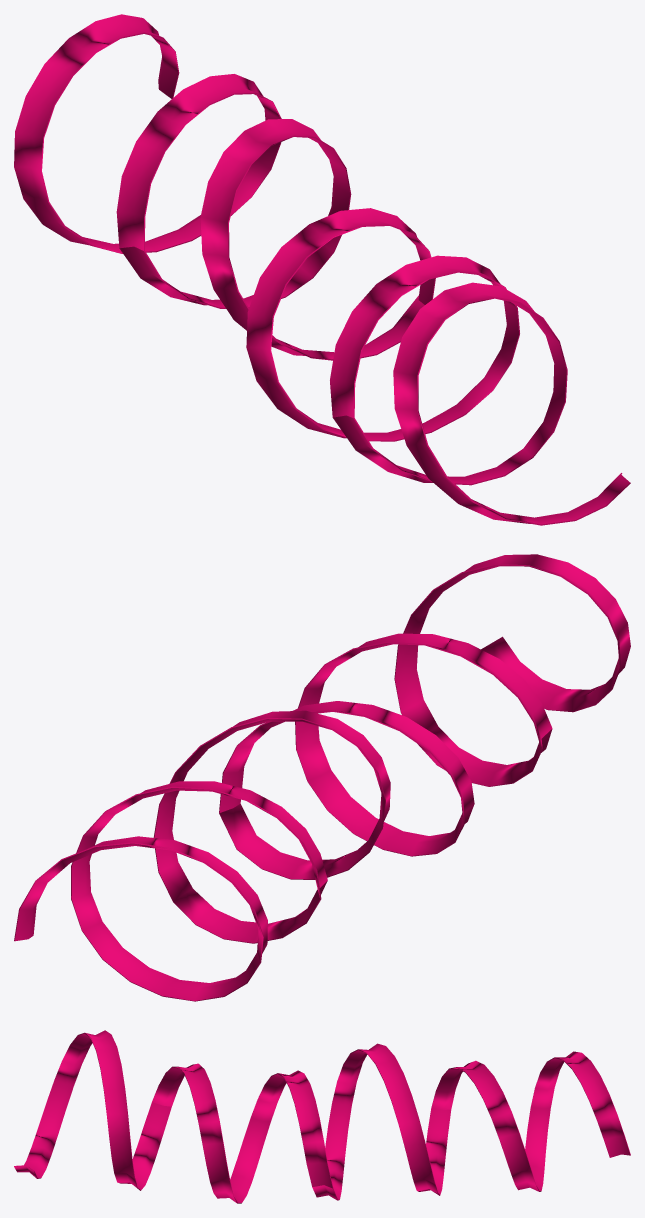
Rendered from Barbwire_01_Lod0.fbx.
3 views of the same model, one above another, from view 1: azimuth 30°, elevation 25°; view 2: azimuth 150°, elevation 25°; view 3: azimuth 270°, elevation 25° (orthographic). The views are drawn at different scales.
Visible parts, largest first — view 1: Barbwire_01_Lod0; view 2: Barbwire_01_Lod0; view 3: Barbwire_01_Lod0.
Part boxes in pixels (box(x1,y1,x2,y2)): Barbwire_01_Lod0: box(14, 14, 630, 525); Barbwire_01_Lod0: box(14, 554, 630, 1001); Barbwire_01_Lod0: box(14, 1030, 630, 1203).
Size of the model in its own units: 123 by 120 by 455.
